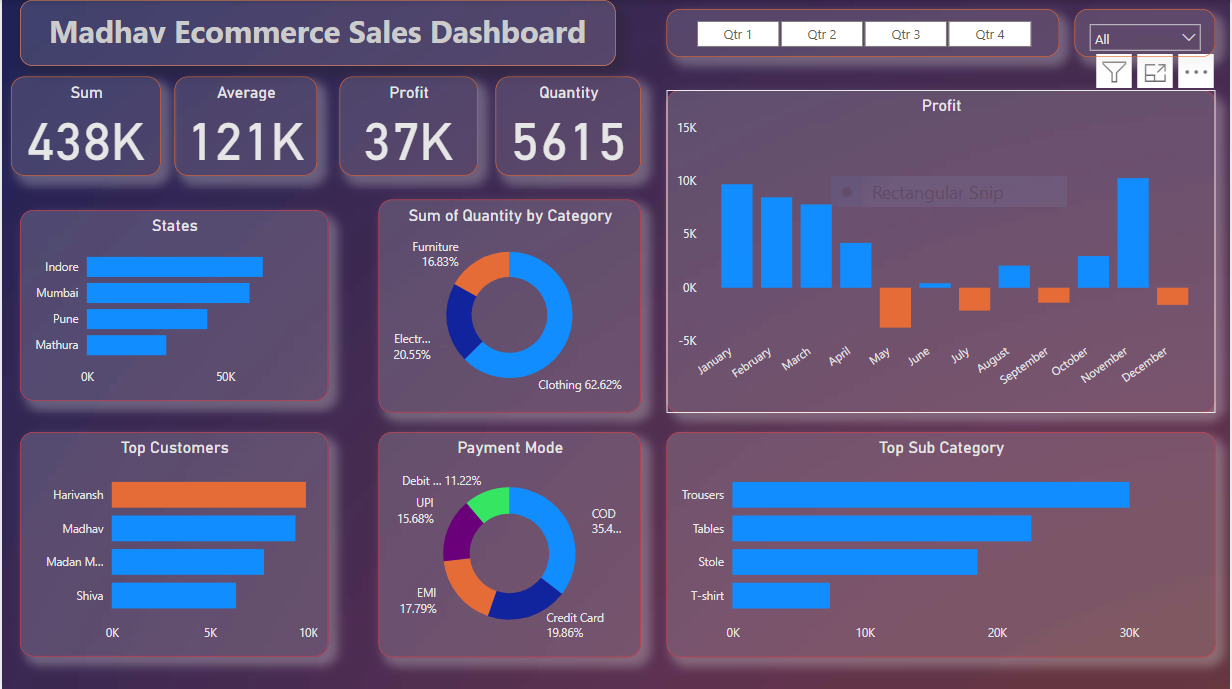

The page's visual inventory and layout, read from the dashboard file:
{"tool":"powerbi","page":{"name":"Page 1","canvas":[1280,720],"ordinal":0},"visuals":[{"type":"columnChart","title":"Profit","fields":{"Y":["Sum(Details bi.Profit)"],"Category":["Orders.Order Date.Variation.Date Hierarchy.Month"]},"box":[692.4,93.8,572.1,336],"z":0},{"type":"barChart","title":"Top Sub Category","fields":{"Category":["Details bi.Sub-Category"],"Y":["Sum(Details bi.Amount)"]},"box":[692.4,450.1,572.1,234.4],"z":1000},{"type":"donutChart","title":"Payment Mode","fields":{"Category":["Details bi.PaymentMode"],"Y":["Sum(Details bi.Amount)"]},"box":[392.3,450.1,273.5,234.4],"z":2000},{"type":"donutChart","fields":{"Category":["Details bi.Category"],"Y":["Sum(Details bi.Quantity)"]},"box":[392.3,207.9,273.5,221.9],"z":3000},{"type":"barChart","title":"Top Customers","fields":{"Y":["Sum(Details bi.Amount)"],"Category":["Orders.CustomerName"]},"box":[18.9,449.8,321.3,234.3],"z":4000},{"type":"barChart","title":"States","fields":{"Y":["Sum(Details bi.Amount)"],"Category":["Orders.City"]},"box":[18.9,219.2,321.3,198.4],"z":5000},{"type":"card","title":"Sum","fields":{"Values":["Sum(Details bi.Amount)"]},"box":[9.4,79.7,156.3,103.2],"z":6000},{"type":"card","title":"Average","fields":{"Values":["Sum(Details bi.adv)"]},"box":[179.7,79.7,148.5,103.2],"z":7000},{"type":"card","title":"Profit","fields":{"Values":["Sum(Details bi.Profit)"]},"box":[351.7,79.7,143.8,103.2],"z":8000},{"type":"card","title":"Quantity","fields":{"Values":["Sum(Details bi.Quantity)"]},"box":[514.2,79.7,151.6,103.2],"z":9000},{"type":"textbox","box":[18.8,0,620.5,68.8],"z":10000},{"type":"slicer","fields":{"Values":["Orders.Order Date.Variation.Date Hierarchy.Quarter"]},"box":[692.4,9.4,409.5,50],"z":11000},{"type":"slicer","fields":{"Values":["Orders.State"]},"box":[1117.5,9.4,146.9,50],"z":12000}]}

Visuals, with their boxes in screenshot pixels (x1, y1, x2, y2), scaled from the page's 1280x720 canvas onto the 1232x689 screenshot:
"Profit" columnChart: 666/90/1217/411
"Top Sub Category" barChart: 666/431/1217/655
"Payment Mode" donutChart: 378/431/641/655
donutChart - Details bi.Category x Sum(Details bi.Quantity): 378/199/641/411
"Top Customers" barChart: 18/430/327/655
"States" barChart: 18/210/327/400
"Sum" card: 9/76/159/175
"Average" card: 173/76/316/175
"Profit" card: 339/76/477/175
"Quantity" card: 495/76/641/175
textbox: 18/0/615/66
slicer - Orders.Order Date.Variation.Date Hierarchy.Quarter: 666/9/1061/57
slicer - Orders.State: 1076/9/1217/57
